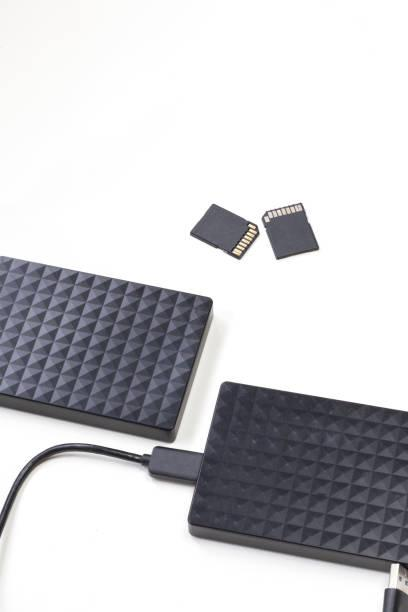HDD: (187, 382, 408, 573), (0, 255, 214, 444)
